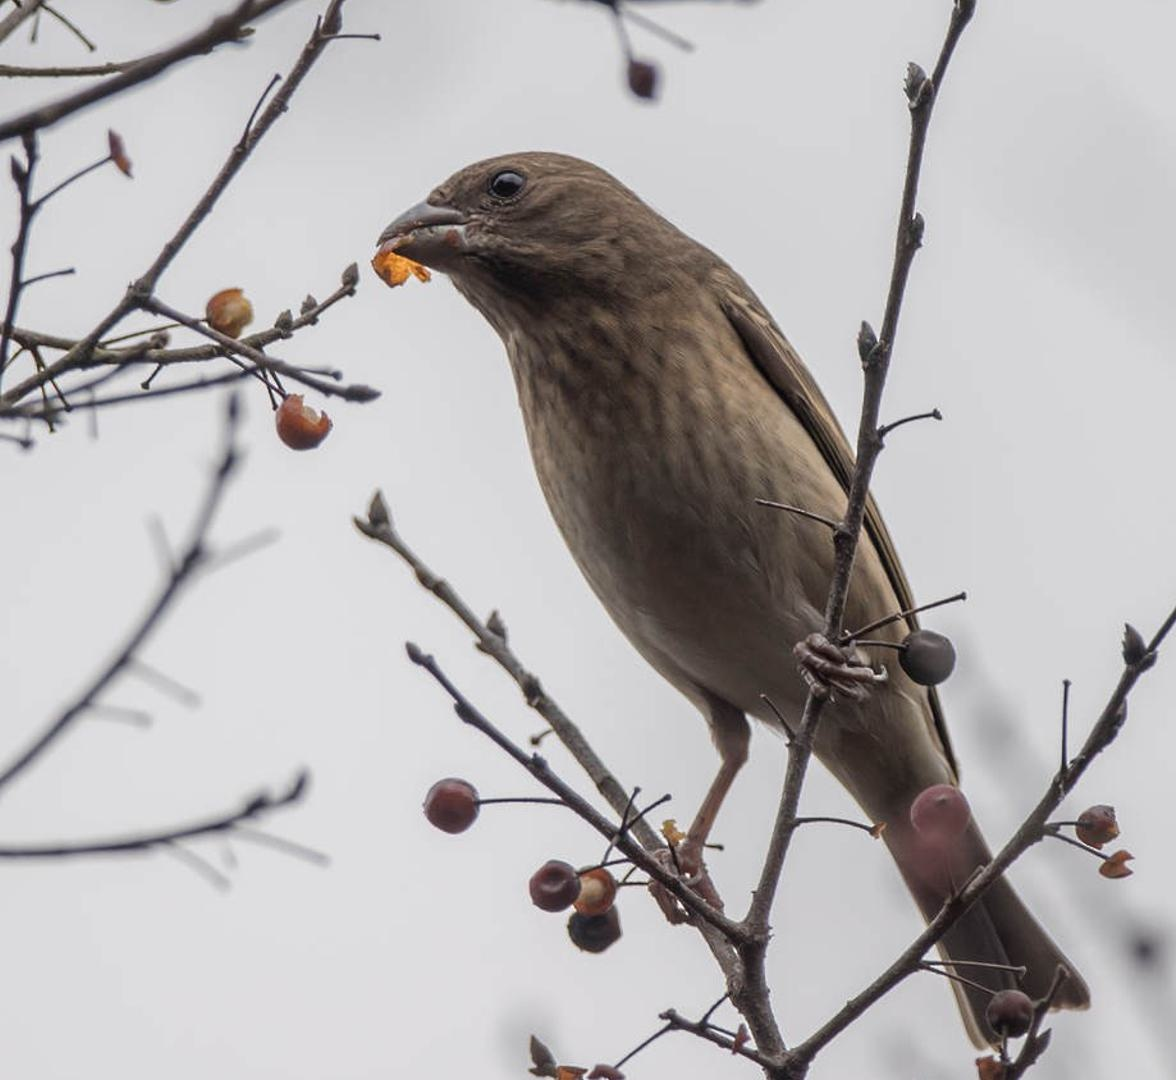rosefinch: (377, 159, 1027, 1013)
